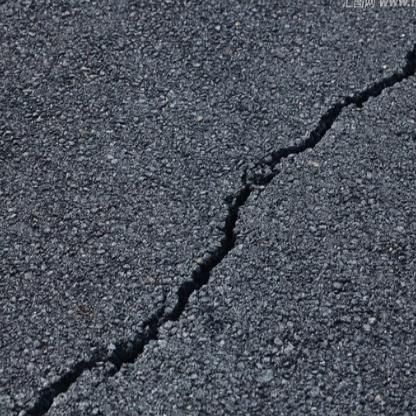Cracks: (4, 25, 416, 416)
